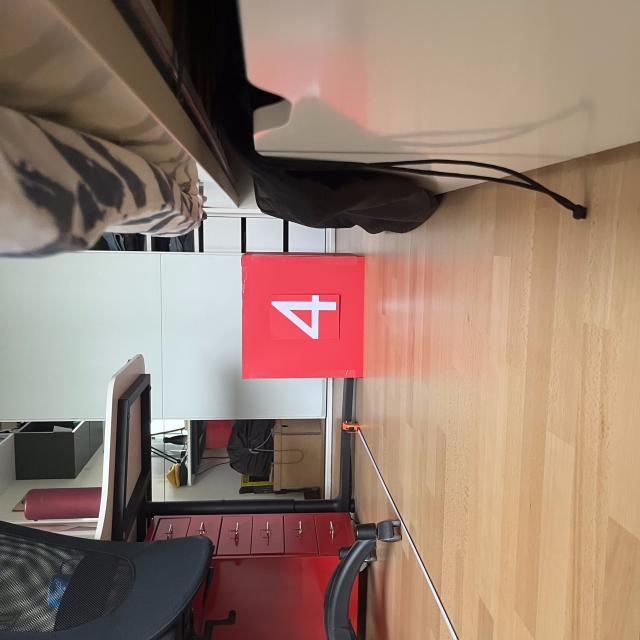box: (237, 249, 368, 381)
